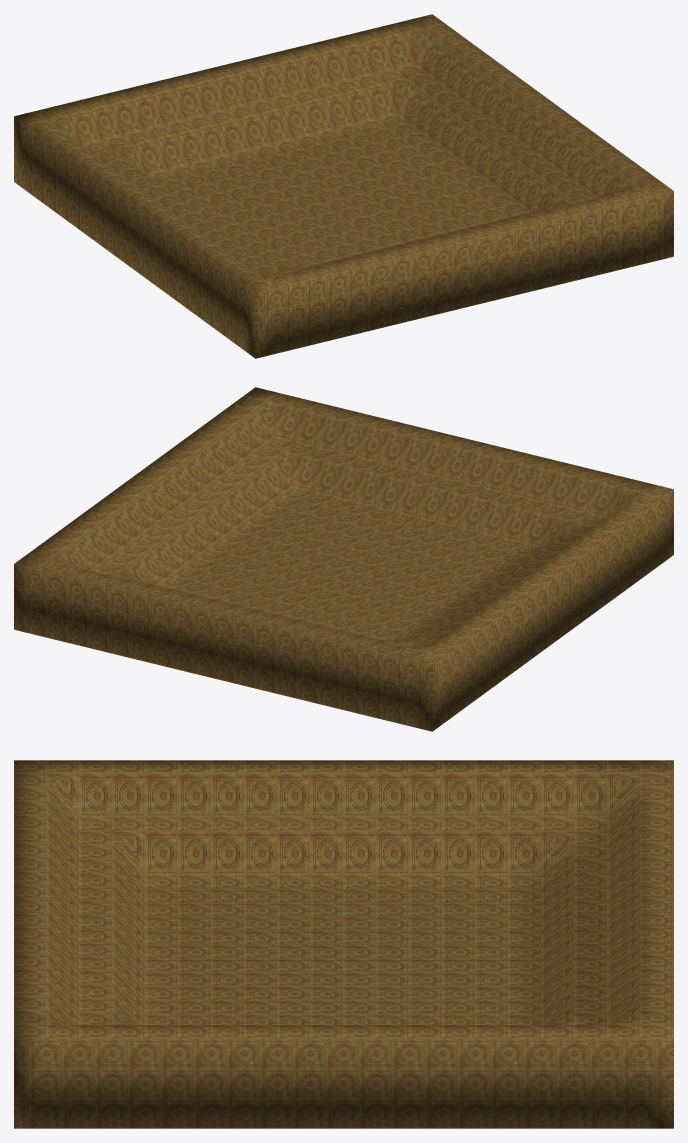
The model's file is squarePoolFaceNorms.obj.
3 views of the same model, one above another, from view 1: azimuth 30°, elevation 25°; view 2: azimuth 150°, elevation 25°; view 3: azimuth 270°, elevation 25° (orthographic). The views are drawn at different scales.
Visible parts, largest first — view 1: pCube1 Mesh; view 2: pCube1 Mesh; view 3: pCube1 Mesh.
Boxes of the visible parts, x1,y1,x2,y2 form: pCube1 Mesh: (14,14,673,358); pCube1 Mesh: (14,387,673,731); pCube1 Mesh: (14,760,673,1128).
Bounding box in the file's own units: 20 × 3 × 20.
Materials: 1 (1 with a texture image).
